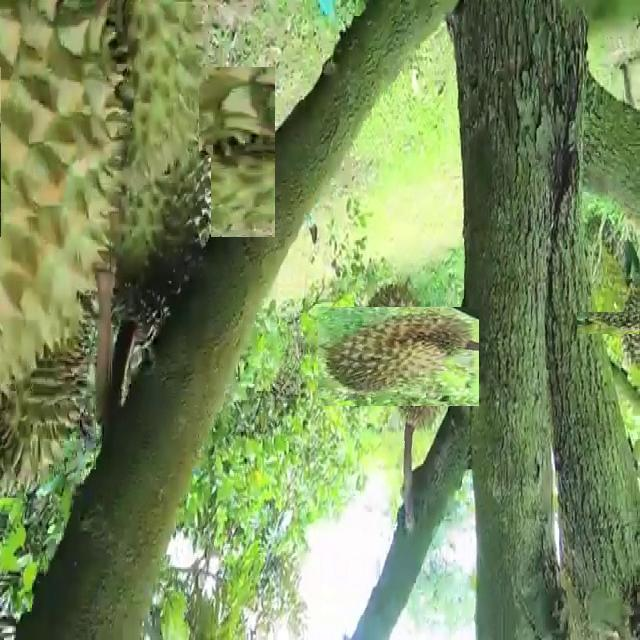durian: (2, 2, 200, 389), (6, 34, 242, 270), (80, 156, 212, 352), (1, 265, 100, 501), (333, 291, 464, 422), (596, 292, 640, 354)
